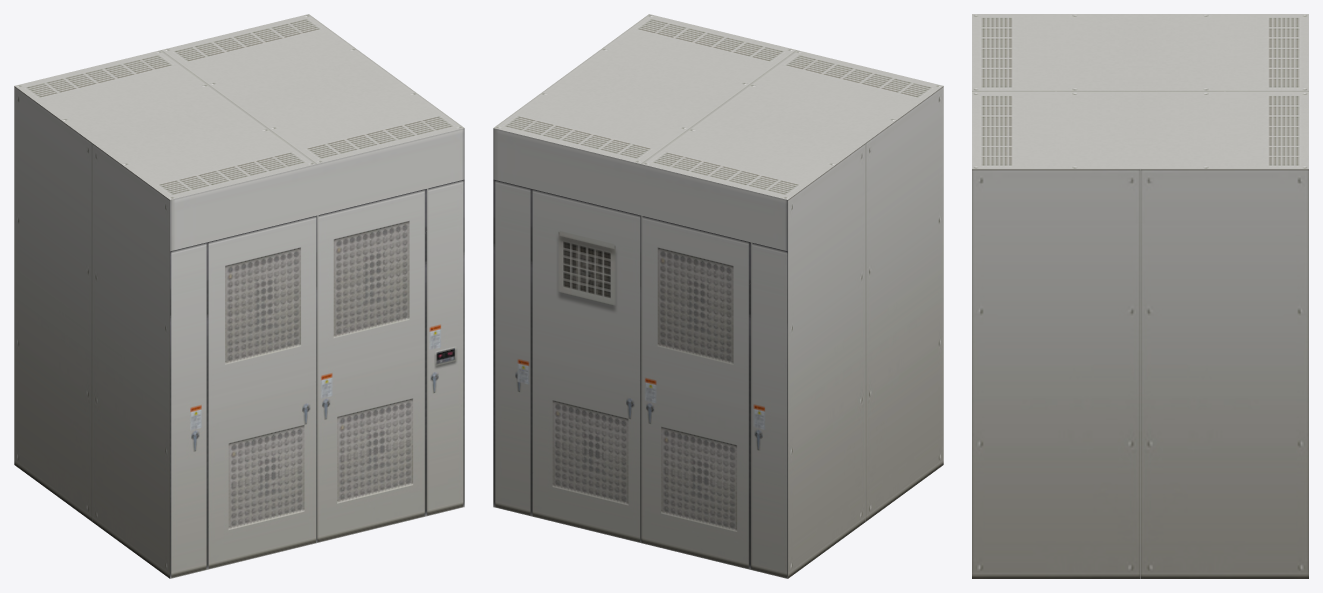
3 renders of one model, left to right at view 1: azimuth 30°, elevation 25°; view 2: azimuth 150°, elevation 25°; view 3: azimuth 270°, elevation 25°, orthographic. The views are drawn at different scales.
Visible parts, largest first — view 1: TR-LO; view 2: TR-LO; view 3: TR-LO.
Part boxes in pixels (box(x1,y1,x2,y2)): TR-LO: box(14, 14, 464, 578); TR-LO: box(493, 14, 943, 578); TR-LO: box(972, 14, 1308, 578).
Bounding box in the file's own units: 2.4 × 2.95 × 2.2.
1 material, 1 textured.
